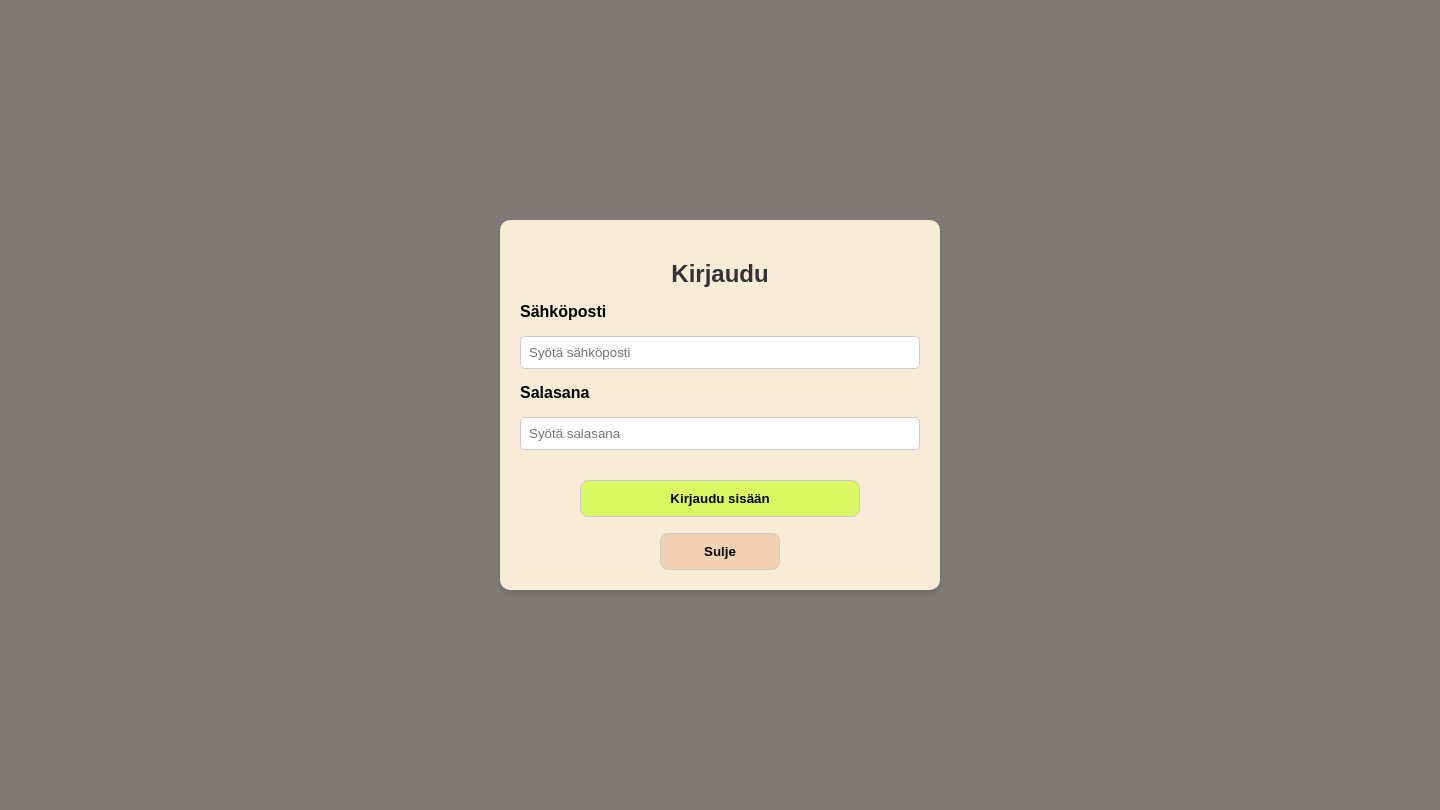
Test: näyttää virheilmoituksen, jos kirjautuminen epäonnistuu
# Syötä tiedot
In the field with placeholder "Syötä sähköposti": point(720, 352) [520, 336, 920, 369], type "test@example.com"
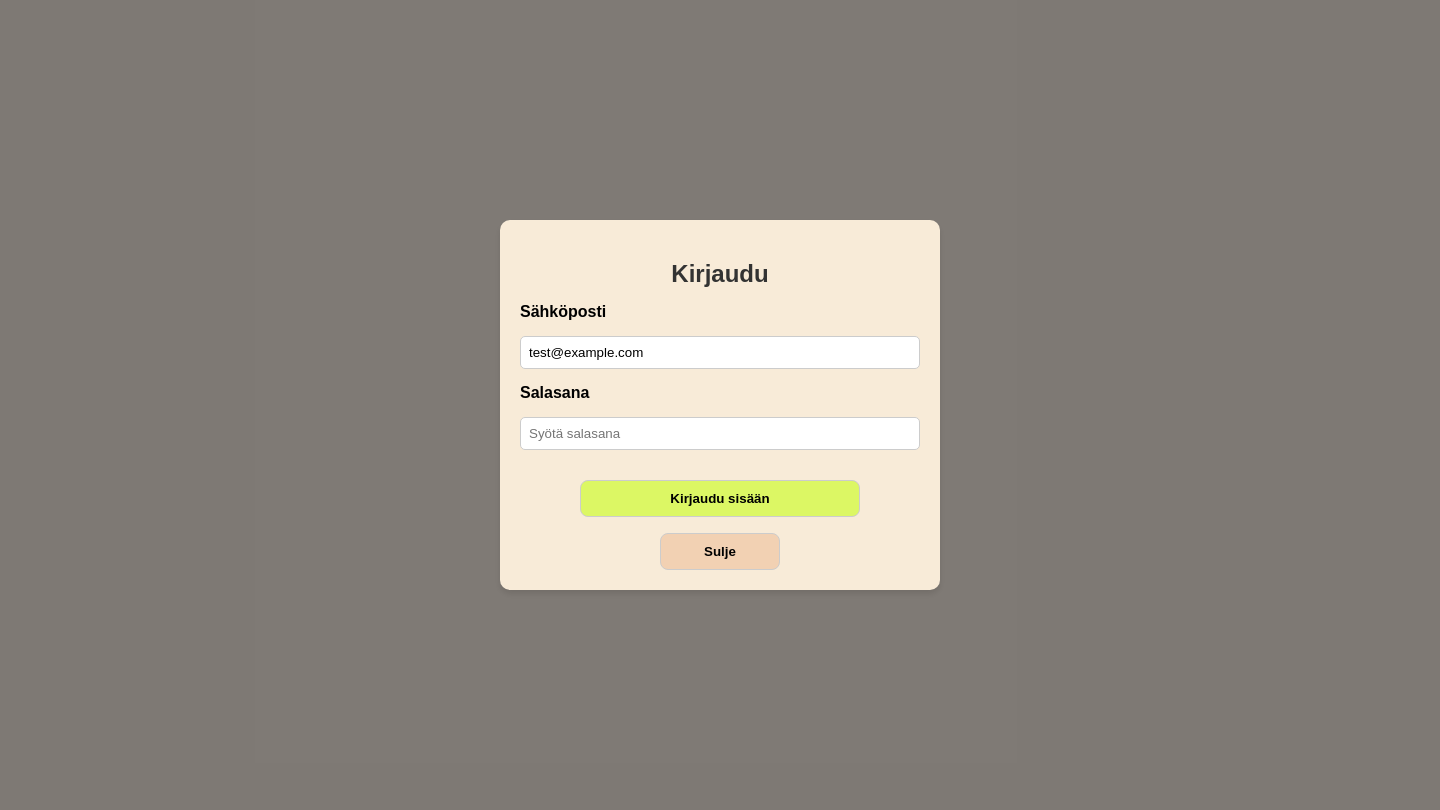
In the password field with placeholder "Syötä salasana": point(720, 434) [520, 417, 920, 450], type "wrongpassword"
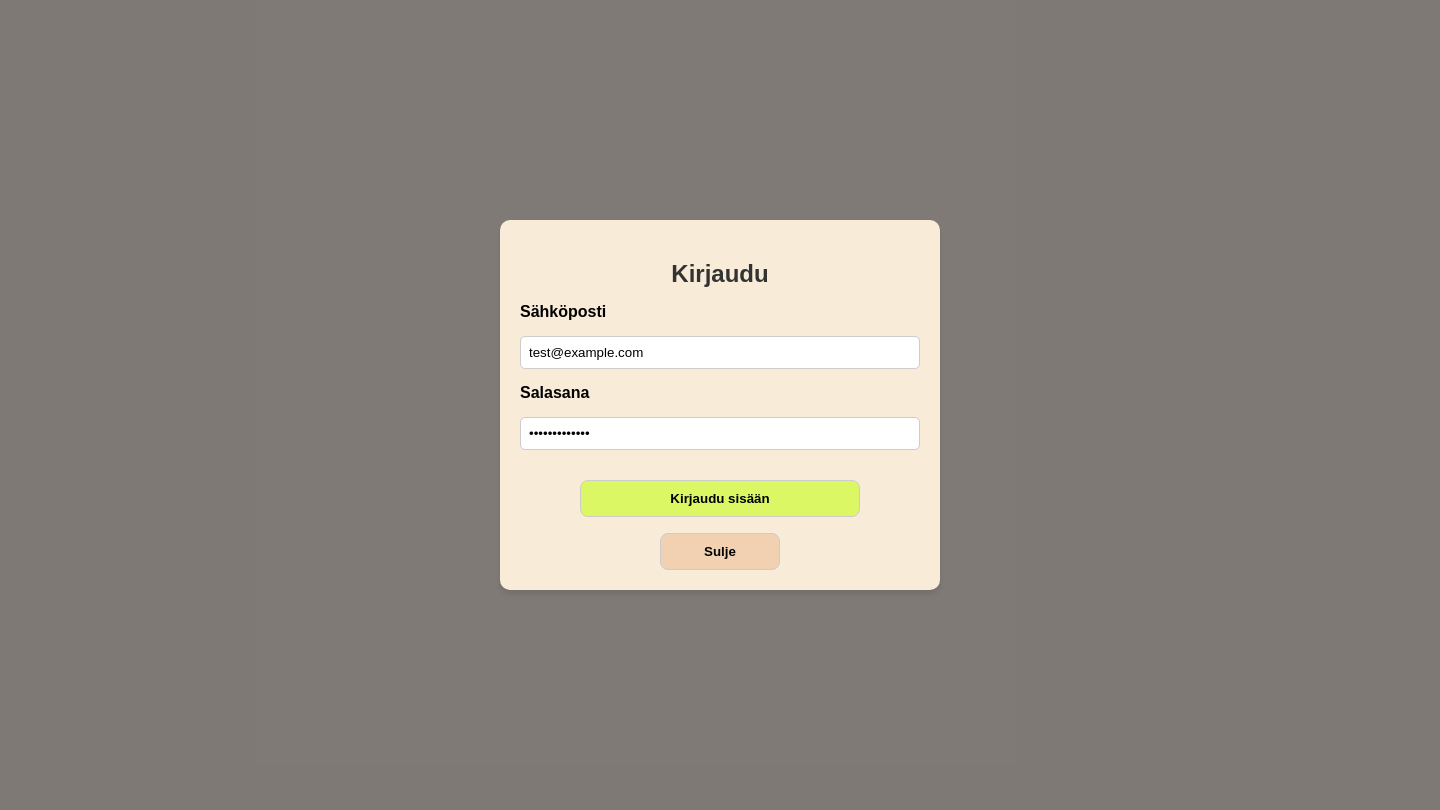
# Lähetä lomake
Click the button "Kirjaudu sisään": point(720, 498) [580, 480, 860, 517]
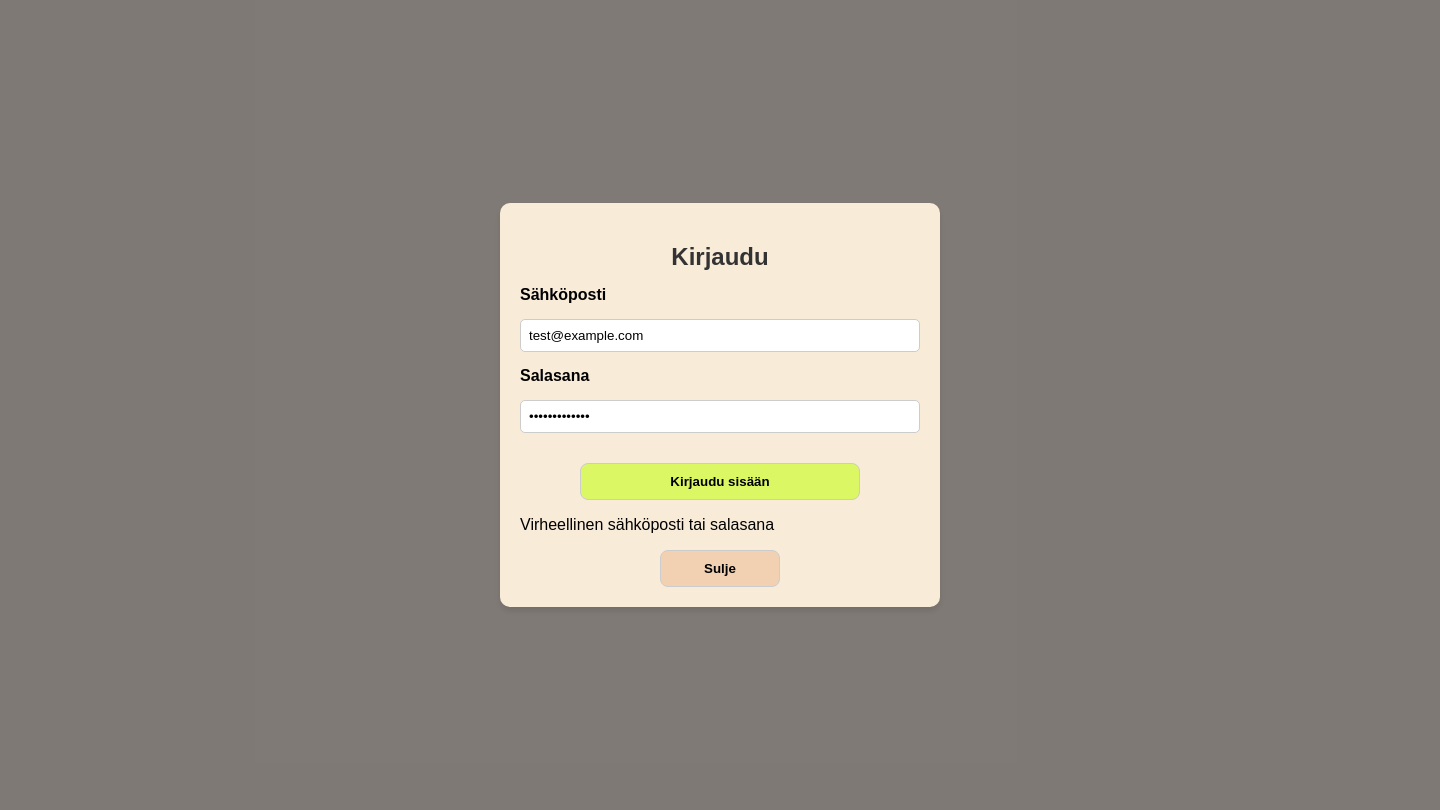
Result: the text "Virheellinen sähköposti tai salasana" is shown at [520, 516, 774, 533]
